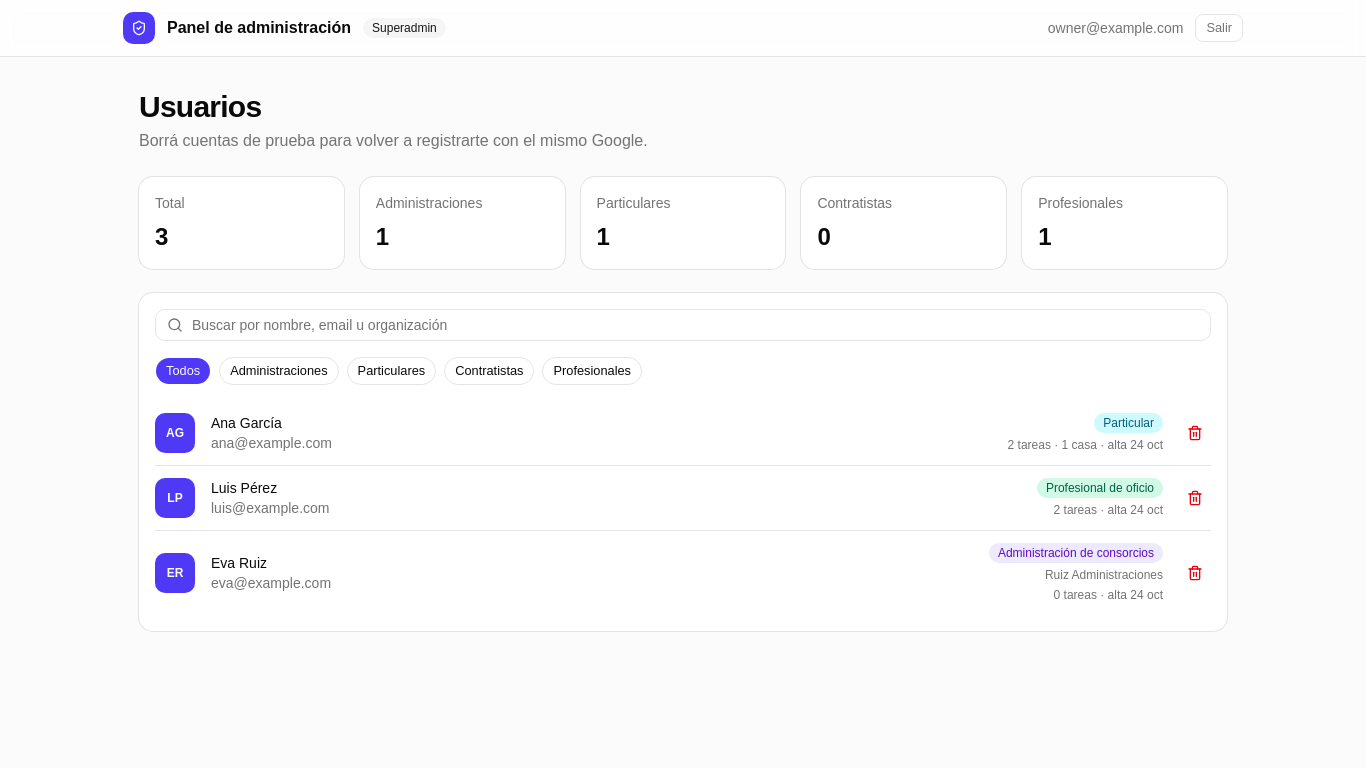
AdminUsers › deletes a user after confirming
Step 1. Click the button named "Borrar a Ana García" → (1195, 433), box [1179, 417, 1211, 449]
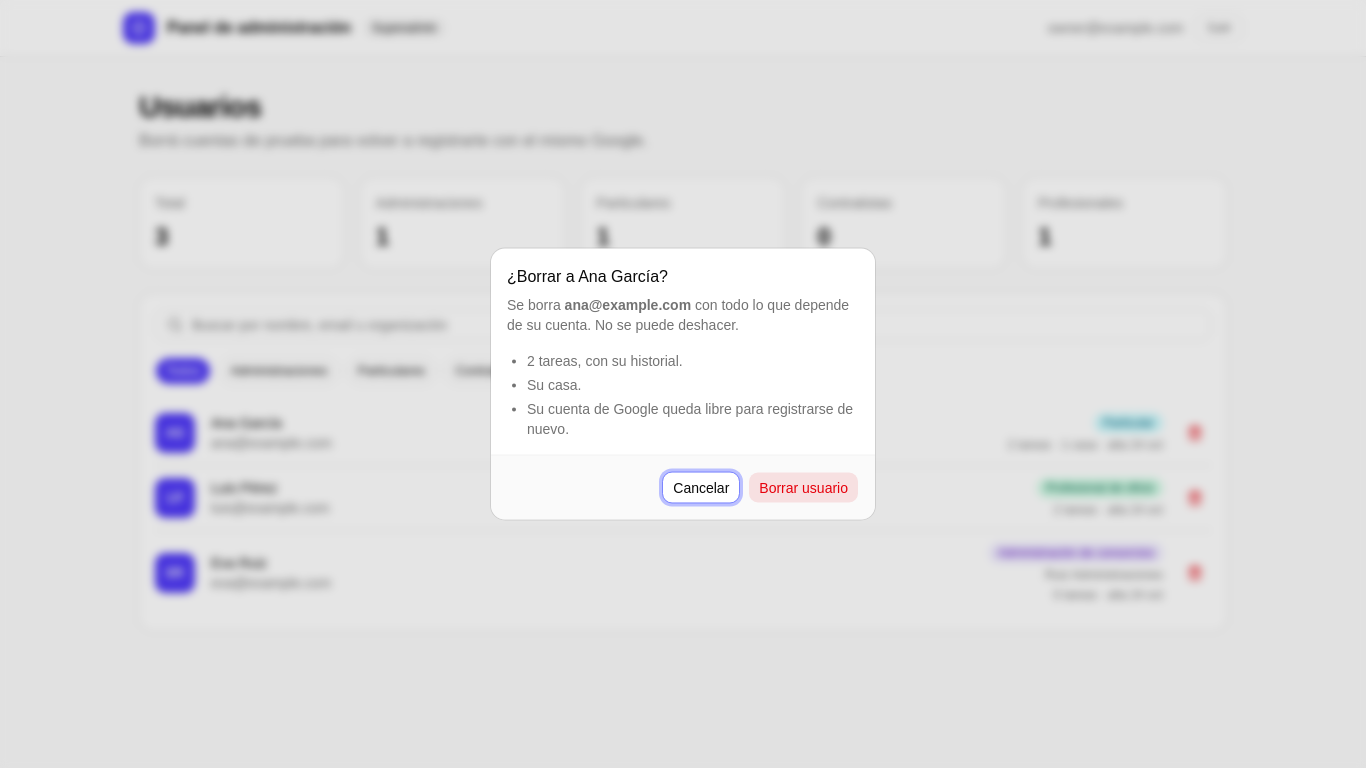
Now the dialog "¿Borrar a Ana García?" shows "2 tareas", box [491, 248, 875, 520]
Now the dialog "¿Borrar a Ana García?" shows "Su casa.", box [527, 376, 582, 392]
Step 2. Click the button "Borrar usuario" → (804, 488), box [748, 472, 859, 504]
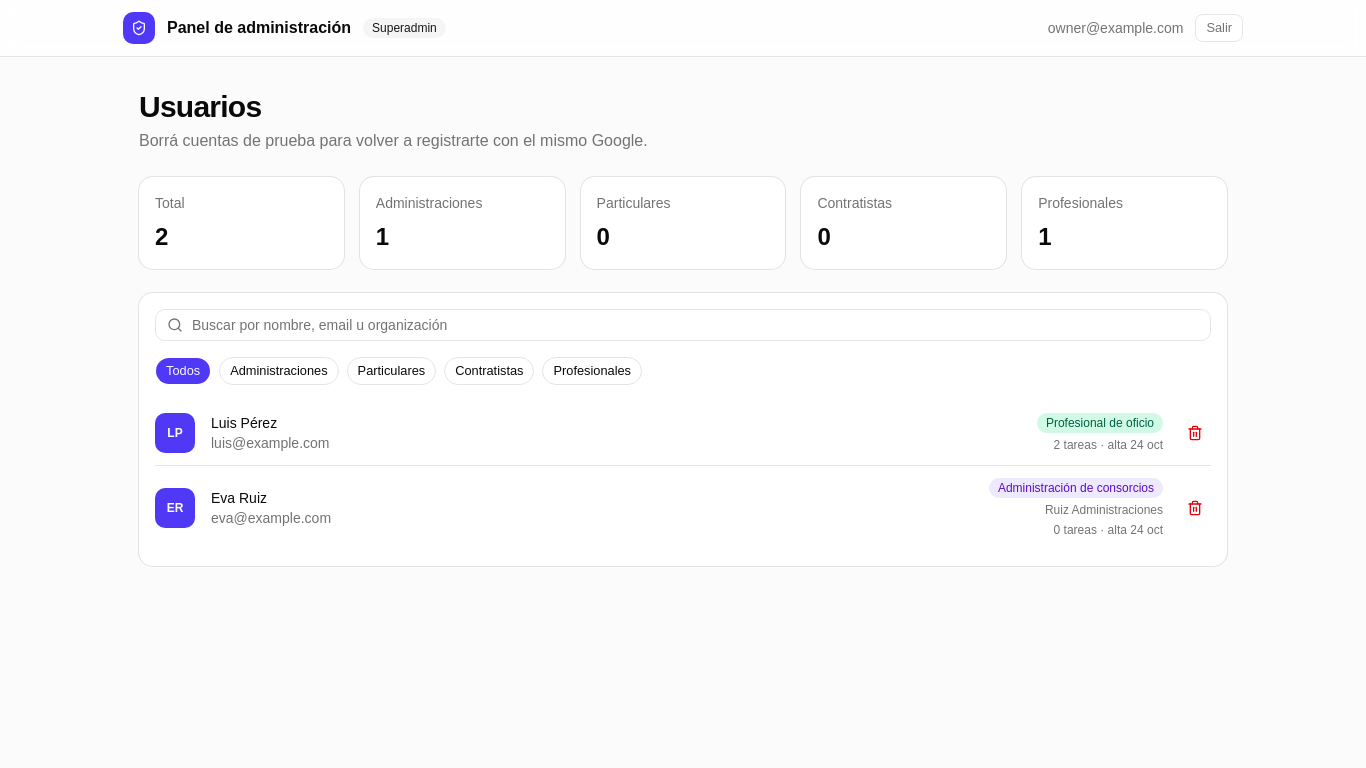
Now the dialog is gone
Now the text "Ana García" is gone
